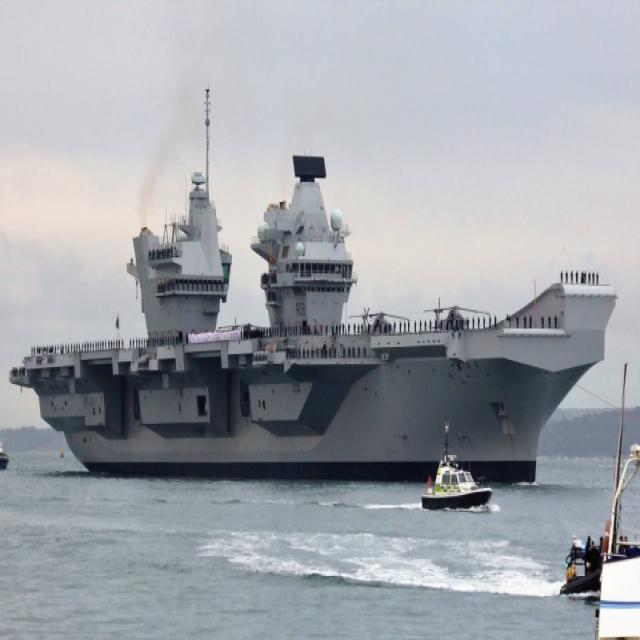Portanaves: (8, 77, 617, 491)
